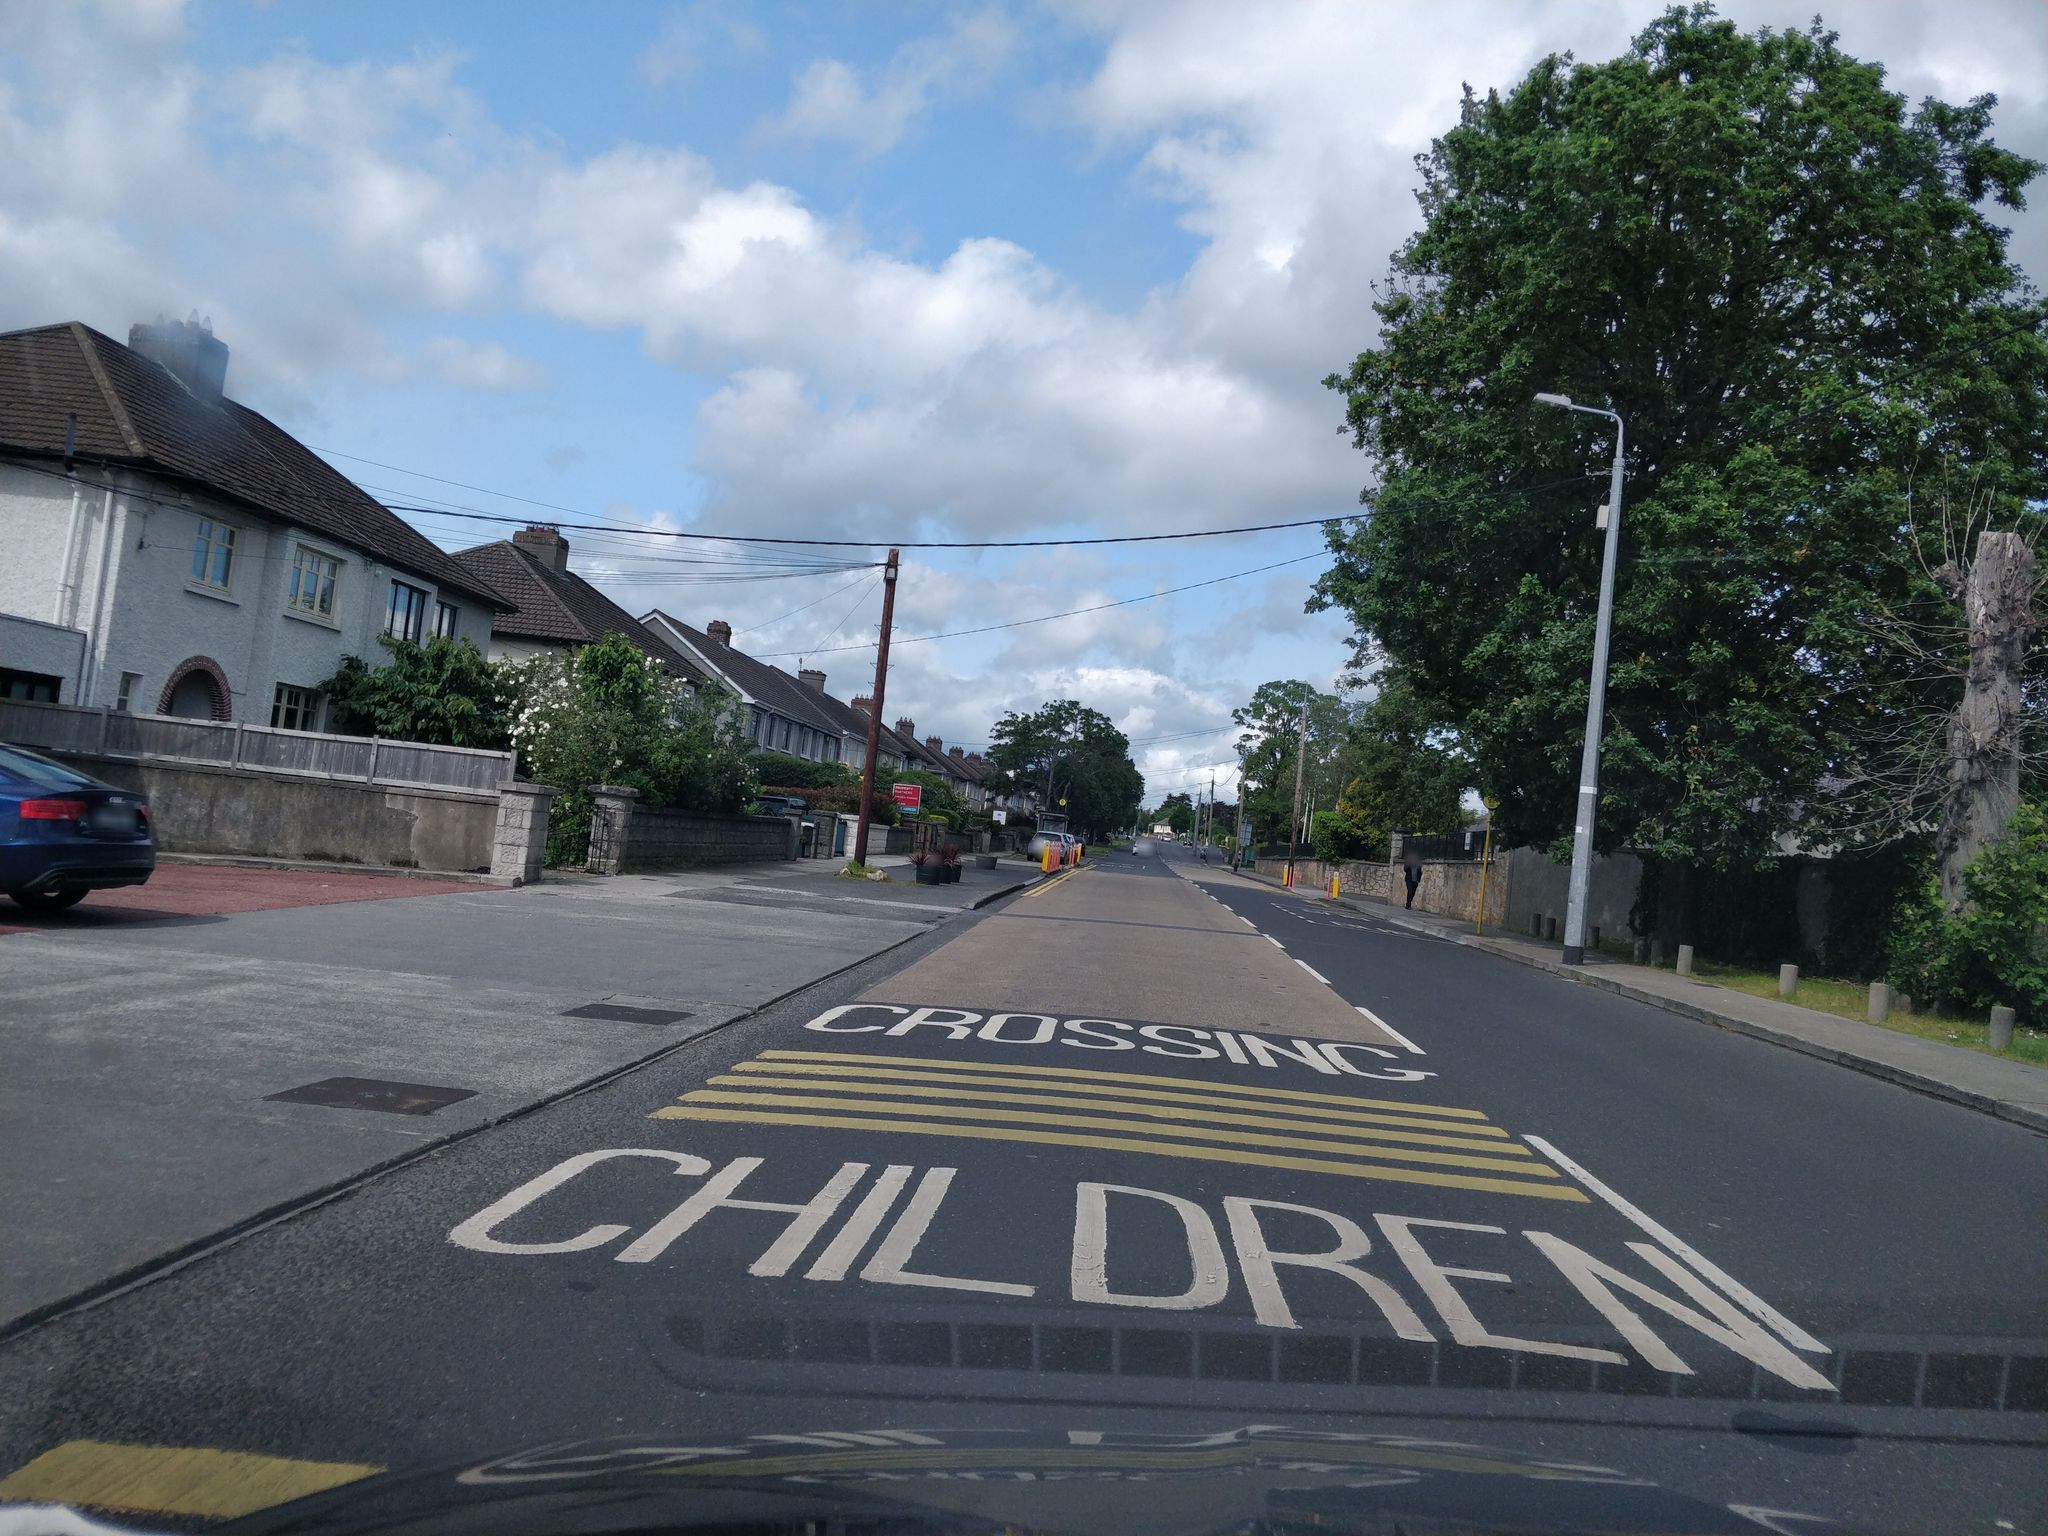property sign: (880, 765, 934, 823)
